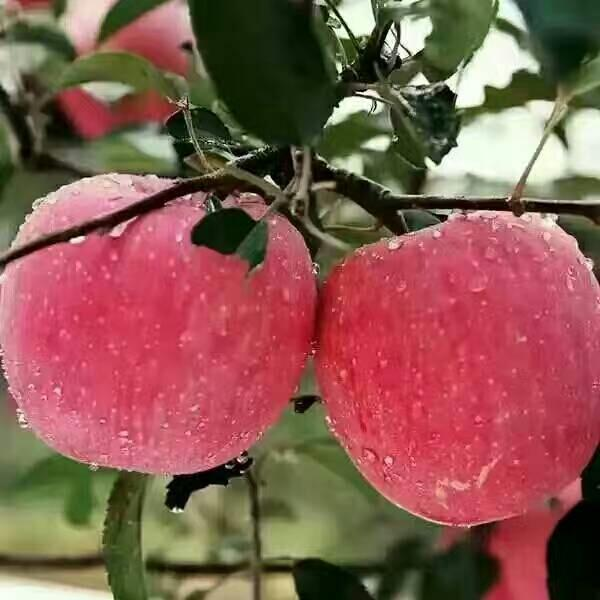apple: (2, 170, 355, 482), (312, 208, 598, 543)
